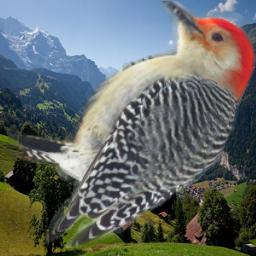Woodpecker: (8, 1, 256, 248)
